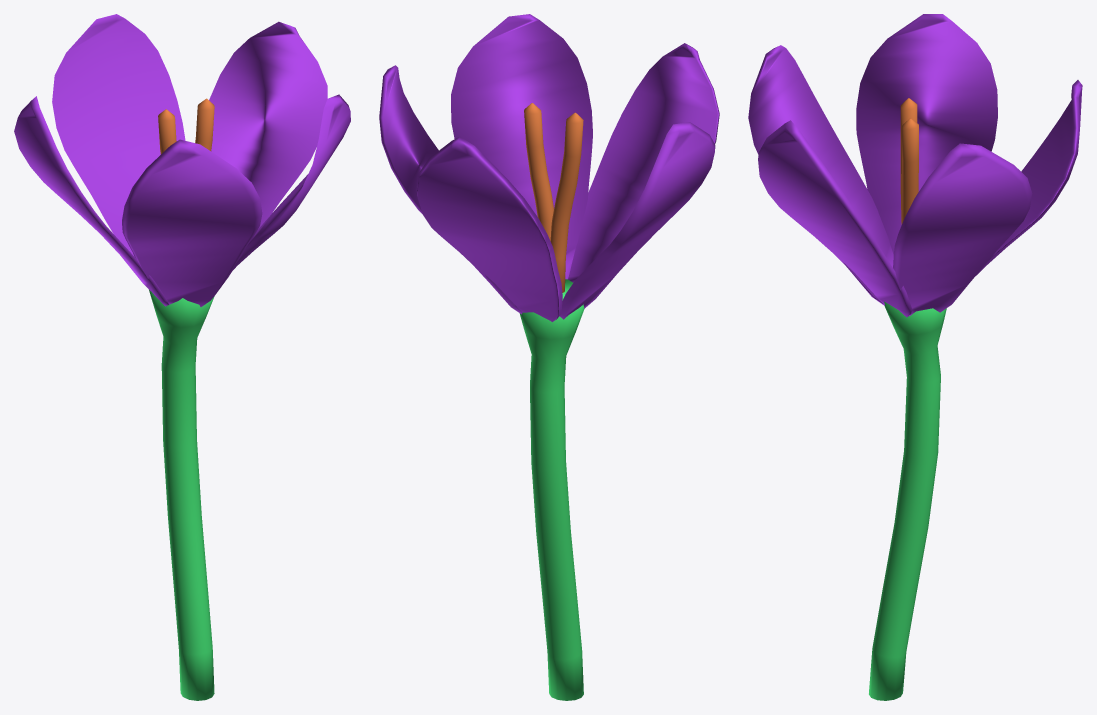
File: crocus8.fbx
3 views of the same model, side by side, from view 1: azimuth 30°, elevation 25°; view 2: azimuth 150°, elevation 25°; view 3: azimuth 270°, elevation 25° (orthographic). The views are drawn at different scales.
Parts seen in each view (by area): view 1: Cube, stem, orangethingy; view 2: Cube, stem, orangethingy; view 3: Cube, stem, orangethingy.
Boxes of the visible parts, left/top/right/bottom form: Cube: left=14, top=14, right=350, bottom=306; stem: left=149, top=290, right=214, bottom=700; orangethingy: left=158, top=98, right=214, bottom=153; Cube: left=379, top=14, right=719, bottom=321; stem: left=519, top=279, right=584, bottom=700; orangethingy: left=524, top=103, right=583, bottom=292; Cube: left=748, top=14, right=1082, bottom=317; stem: left=869, top=301, right=946, bottom=700; orangethingy: left=900, top=98, right=918, bottom=224.
Bounding box in the file's own units: 437 × 872 × 430.
